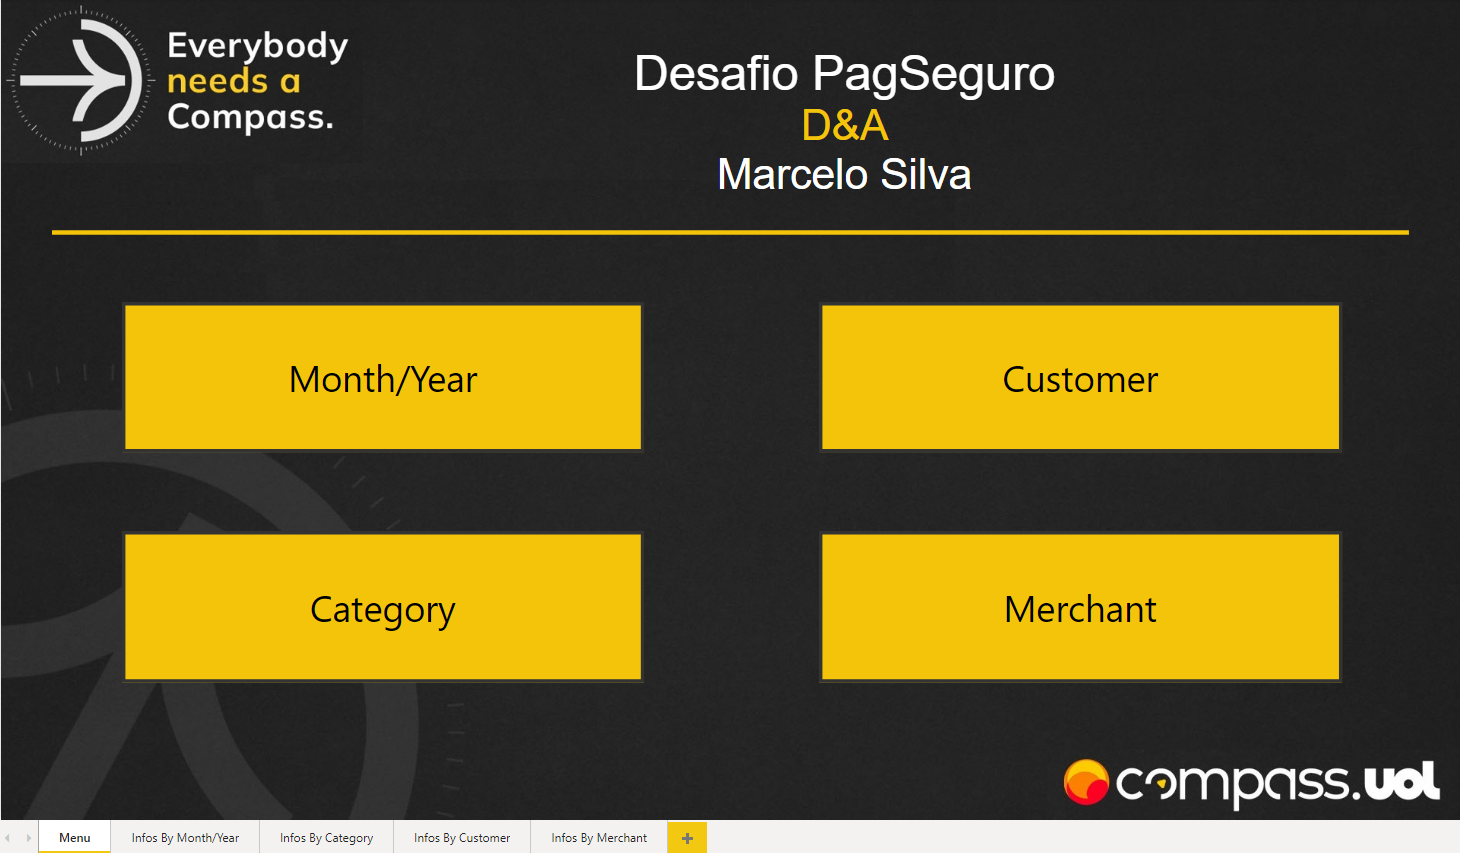

Layout of this report page (visuals, bound fields, positions):
{"tool":"powerbi","page":{"name":"Menu","canvas":[1280,720],"ordinal":0},"visuals":[{"type":"shape","box":[44.7,129.8,1190.1,150],"z":0},{"type":"textbox","box":[356.9,36,765.6,197.3],"z":1000},{"type":"actionButton","box":[106.1,265.7,457.8,132.4],"z":2000},{"type":"actionButton","box":[106.1,466.6,457.8,133.3],"z":3000},{"type":"actionButton","box":[717.4,265.7,458.7,132.4],"z":4000},{"type":"actionButton","box":[717.4,466.6,458.7,133.3],"z":5000}]}

Visuals, with their boxes on the page's 1280x720 design canvas (x1, y1, x2, y2). These are canvas units, not pixel positions in the 1460x853 screenshot, which may show the page scaled, cropped or inside an application window:
shape: <box>45,130,1235,280</box>
textbox: <box>357,36,1122,233</box>
actionButton: <box>106,266,564,398</box>
actionButton: <box>106,467,564,600</box>
actionButton: <box>717,266,1176,398</box>
actionButton: <box>717,467,1176,600</box>
